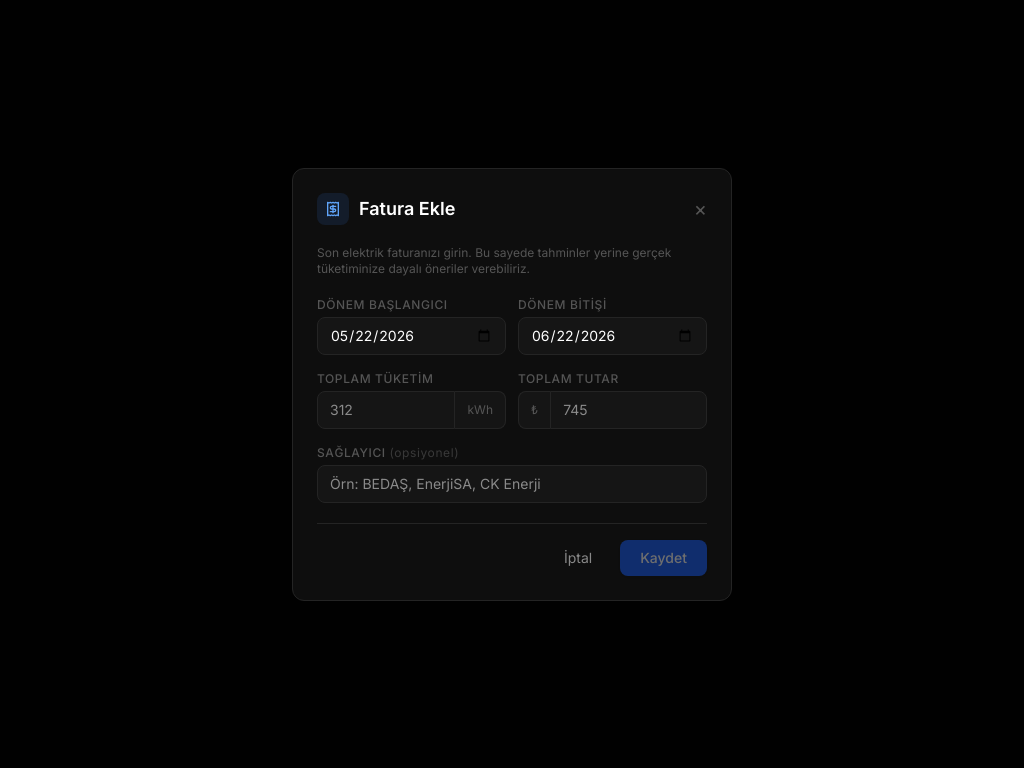
Test: BillEntryModal › switches to diagnostic view on successful save
The width and height of the screenshot is (1024, 768).
Type "300" into the number field with placeholder "312" at (386,410), box x1=317 y1=390 x2=456 y2=428
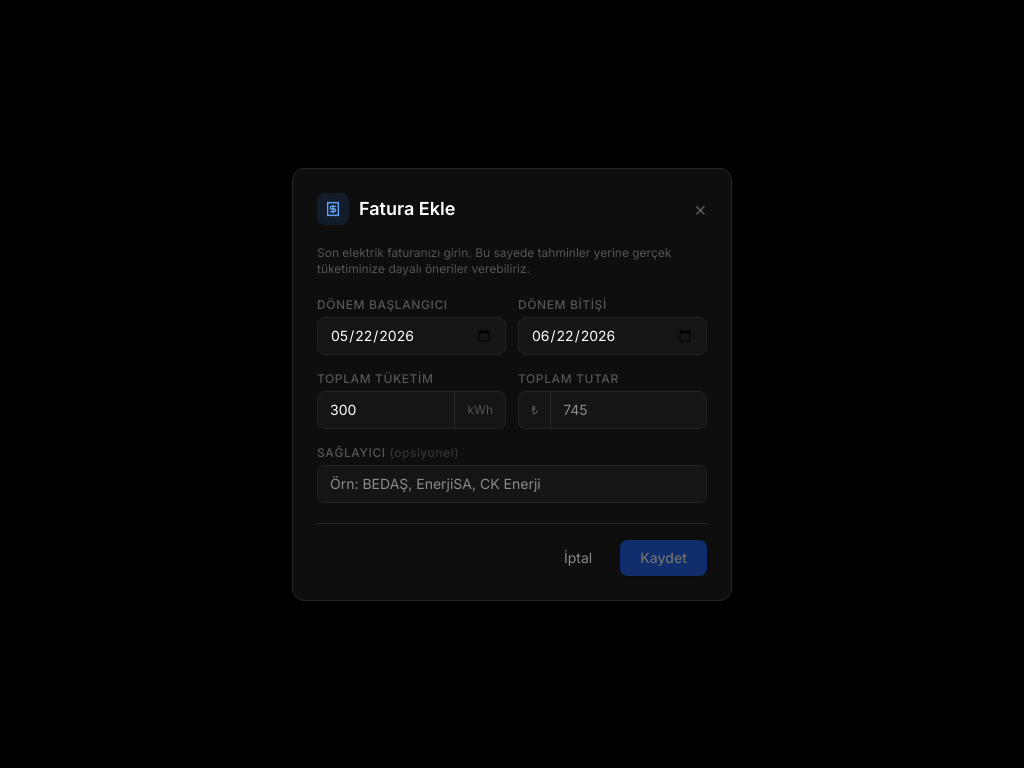
Type "900" into the number field with placeholder "745" at (629,410), box x1=550 y1=390 x2=707 y2=428
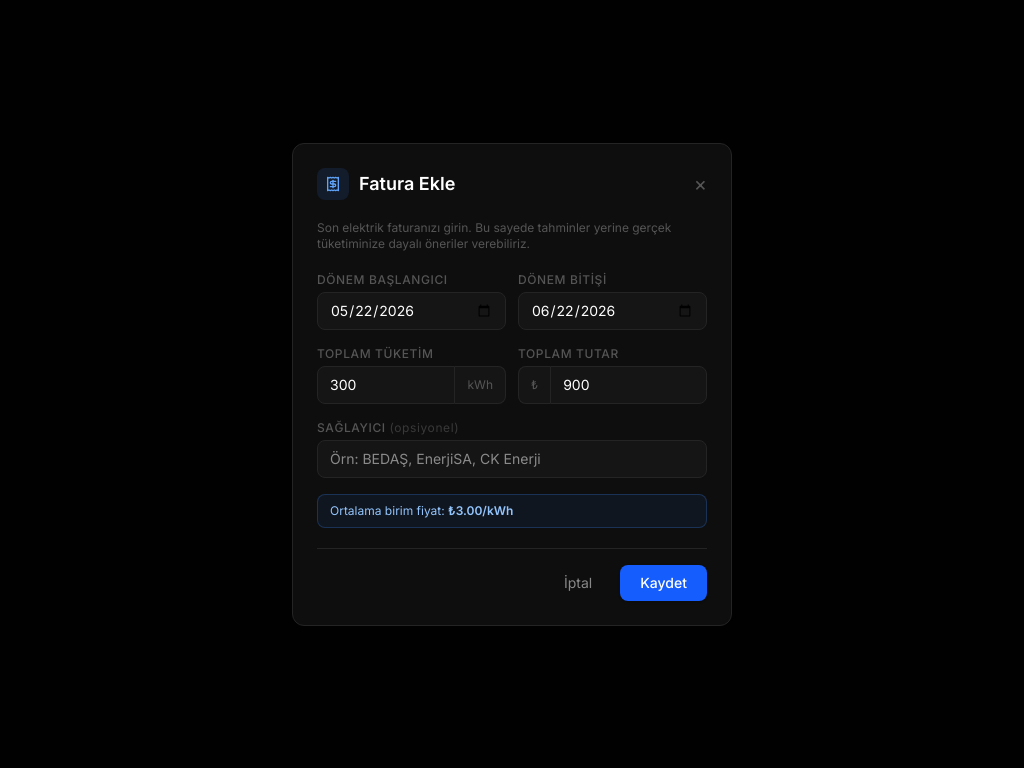
Click the button "Kaydet" at (664,582), box x1=620 y1=564 x2=707 y2=600
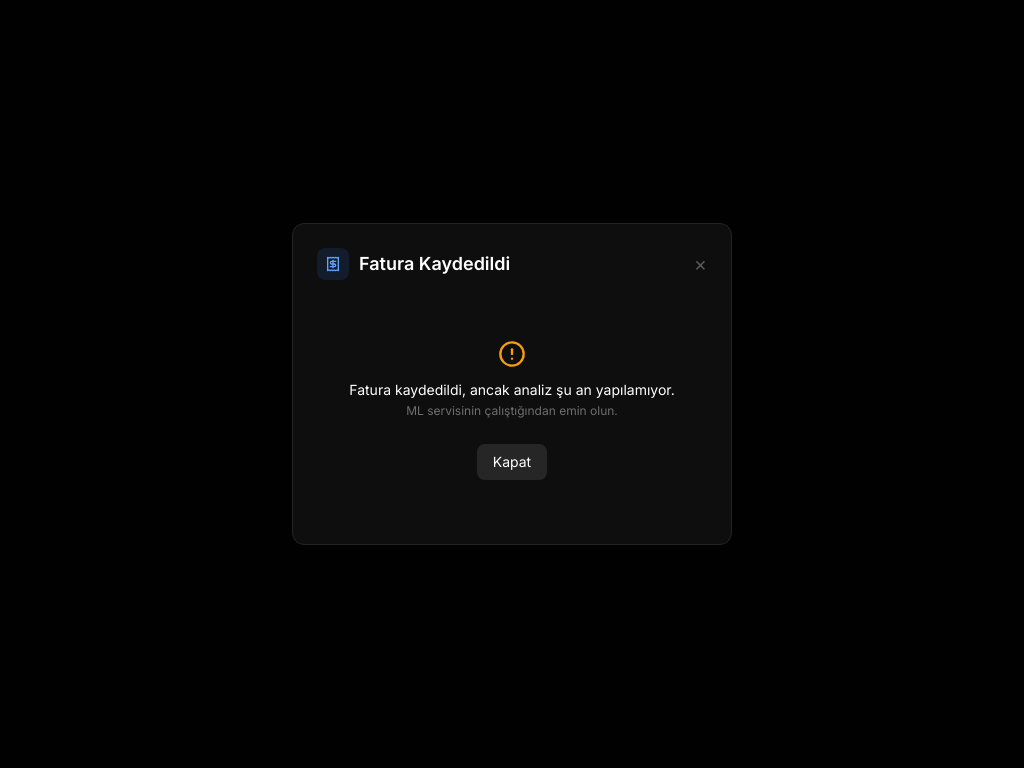
Result: the heading "Fatura Kaydedildi" is shown at x1=359 y1=250 x2=510 y2=278
